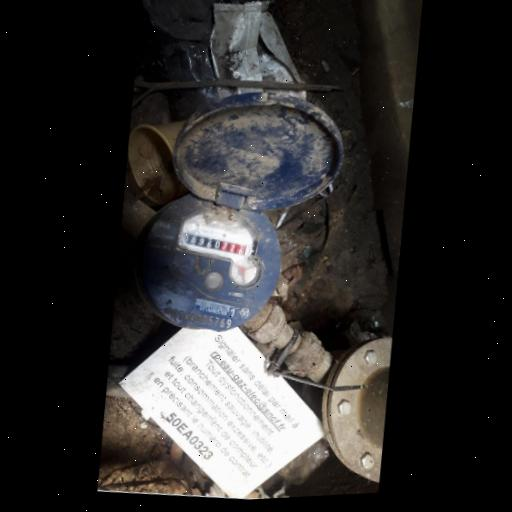0: (211, 238, 222, 251), (180, 231, 190, 244)
2: (227, 242, 237, 254)
6: (188, 232, 199, 246), (234, 244, 245, 256), (204, 237, 214, 249)
7: (219, 240, 229, 252)
9: (196, 236, 206, 248)
border_water_meter_number: (177, 226, 253, 264)
